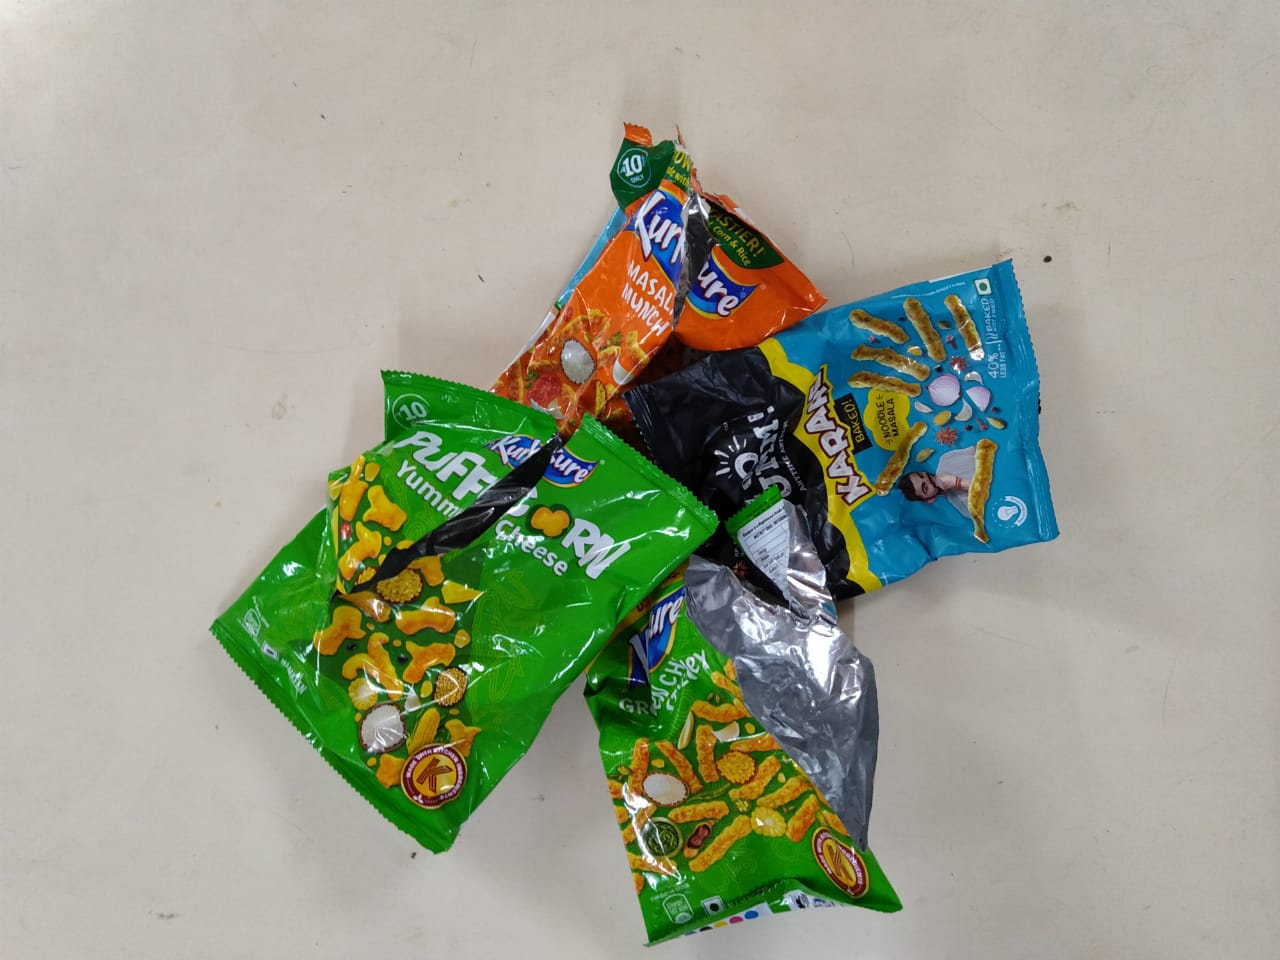kurkure: (609, 177, 781, 331), (623, 571, 739, 701), (633, 179, 721, 287), (675, 227, 765, 325), (487, 419, 605, 491), (605, 587, 709, 651), (537, 431, 605, 511), (489, 421, 561, 483)
plastic: (219, 95, 1089, 911)
tooyumm: (697, 383, 805, 515), (707, 427, 805, 493)
wrapper: (189, 389, 753, 851), (613, 253, 1083, 571), (559, 501, 897, 907), (469, 127, 911, 427)
